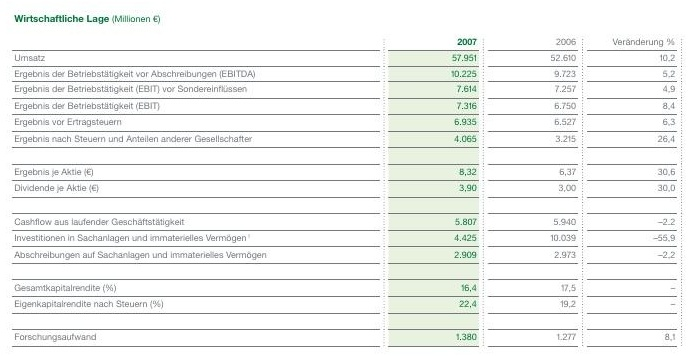table: (0, 0, 693, 356)
